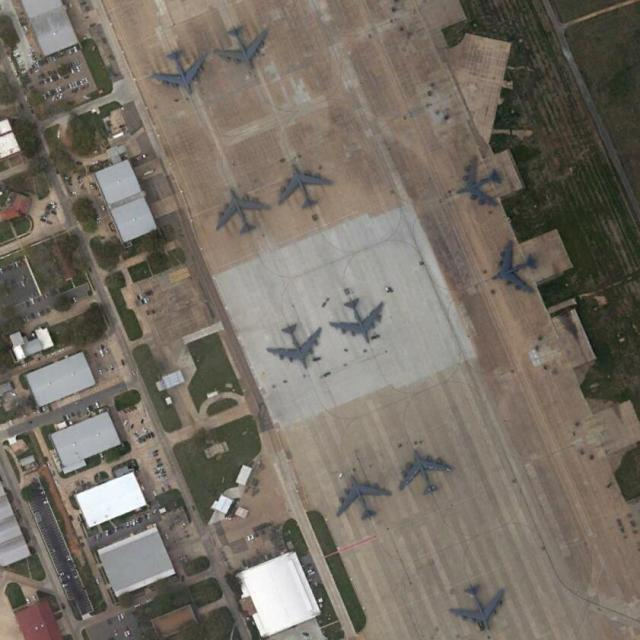fighter jet: (324, 465, 392, 520), (490, 238, 545, 294), (455, 577, 506, 636), (217, 185, 270, 237), (399, 452, 456, 498), (270, 324, 324, 368), (337, 293, 382, 344), (285, 162, 332, 208), (462, 156, 504, 206), (221, 25, 266, 68), (157, 52, 204, 93)
